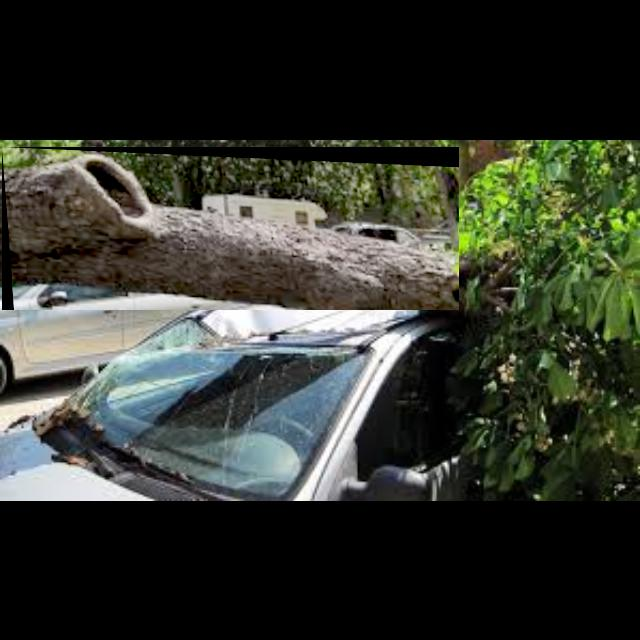Fallen Tree: (2, 147, 460, 311)
